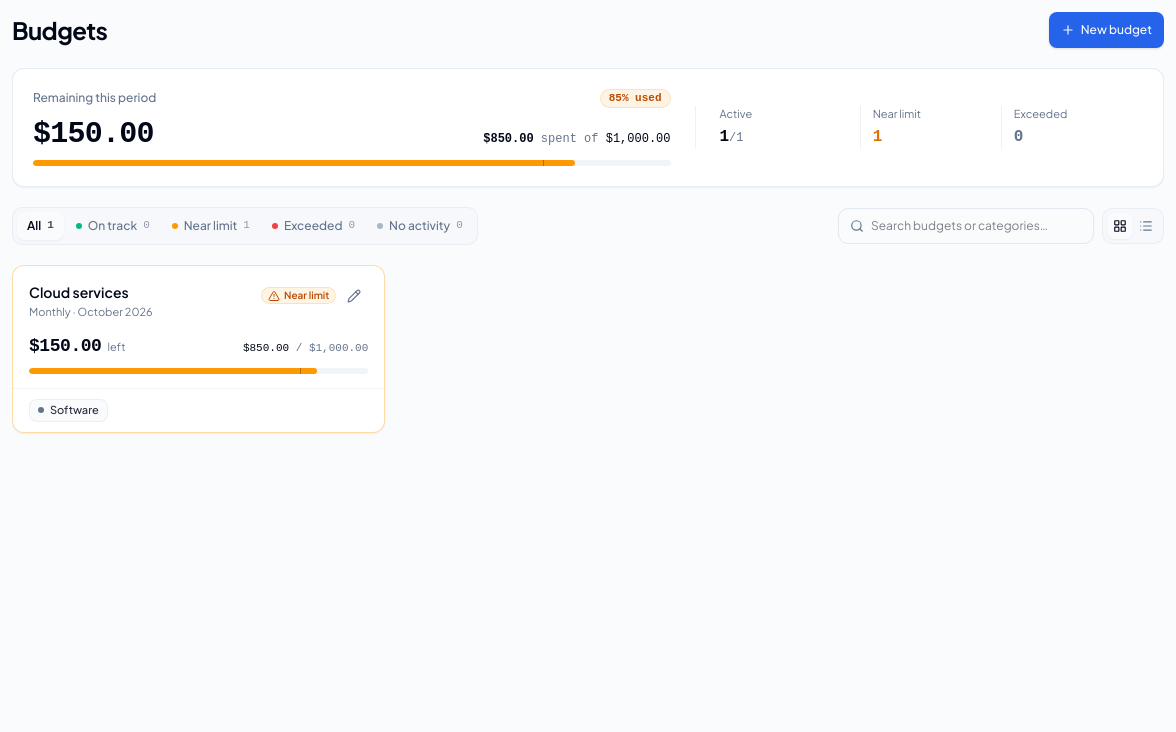
Test case: budget pages › switches views, filters budgets and navigates to details and history
Expected: the element with test id "budget-card-1" shows "$150.00", x1=29 y1=336 x2=102 y2=356
Click the button named "Table view": (1146, 226) x1=1133 y1=212 x2=1159 y2=238
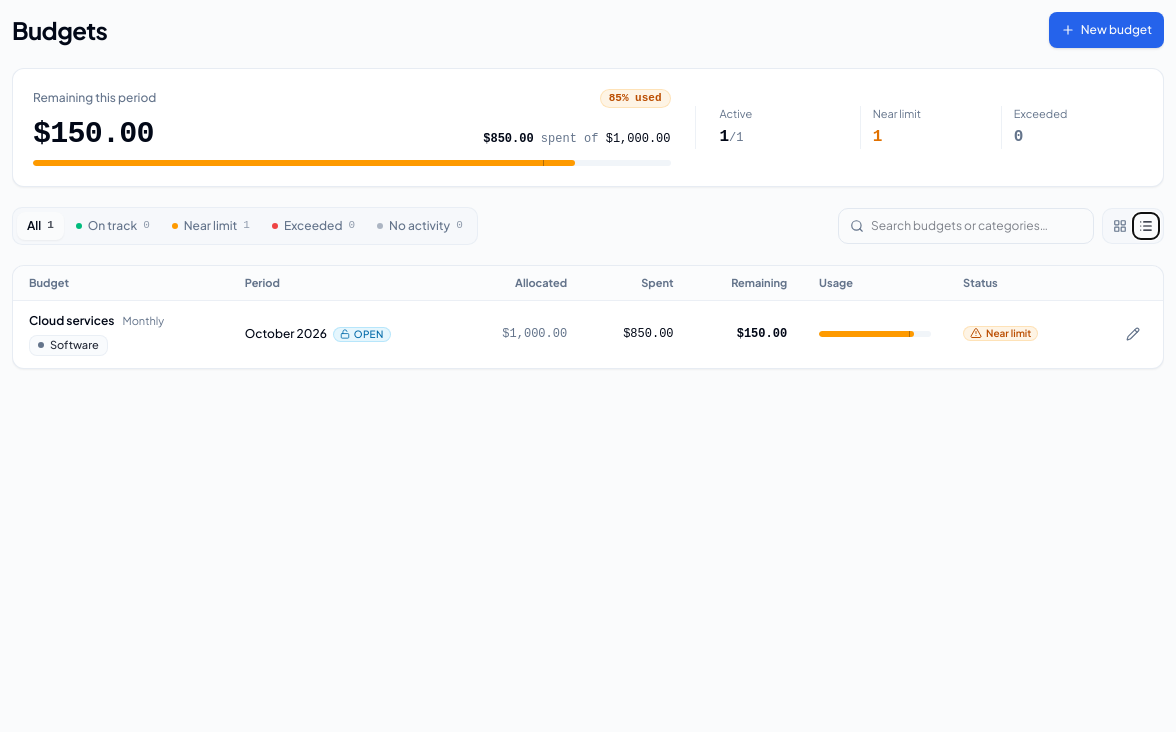
Expected: the table shows "OPEN", x1=354 y1=328 x2=384 y2=340
In the search field labelled "Search budgets": (966, 226) x1=838 y1=208 x2=1094 y2=244, type "missing"
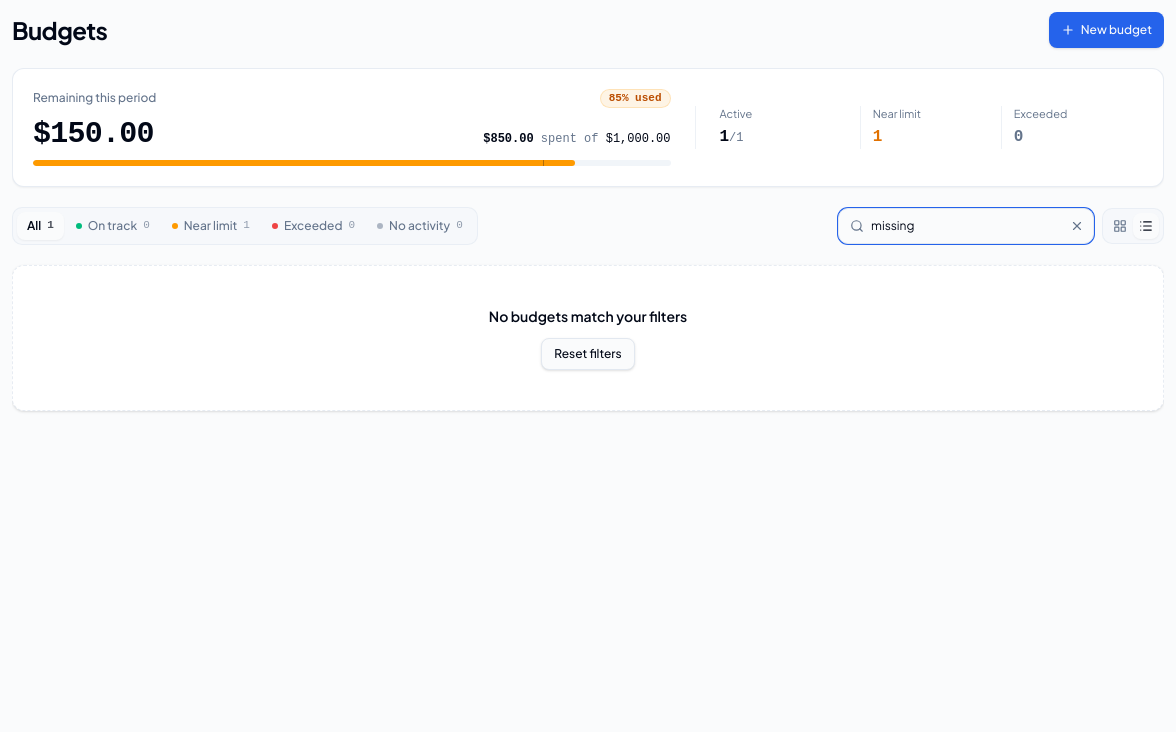
Expected: the heading "No budgets match your filters" is shown, x1=489 y1=306 x2=687 y2=324
Click the button "Reset filters": (588, 354) x1=541 y1=338 x2=635 y2=370
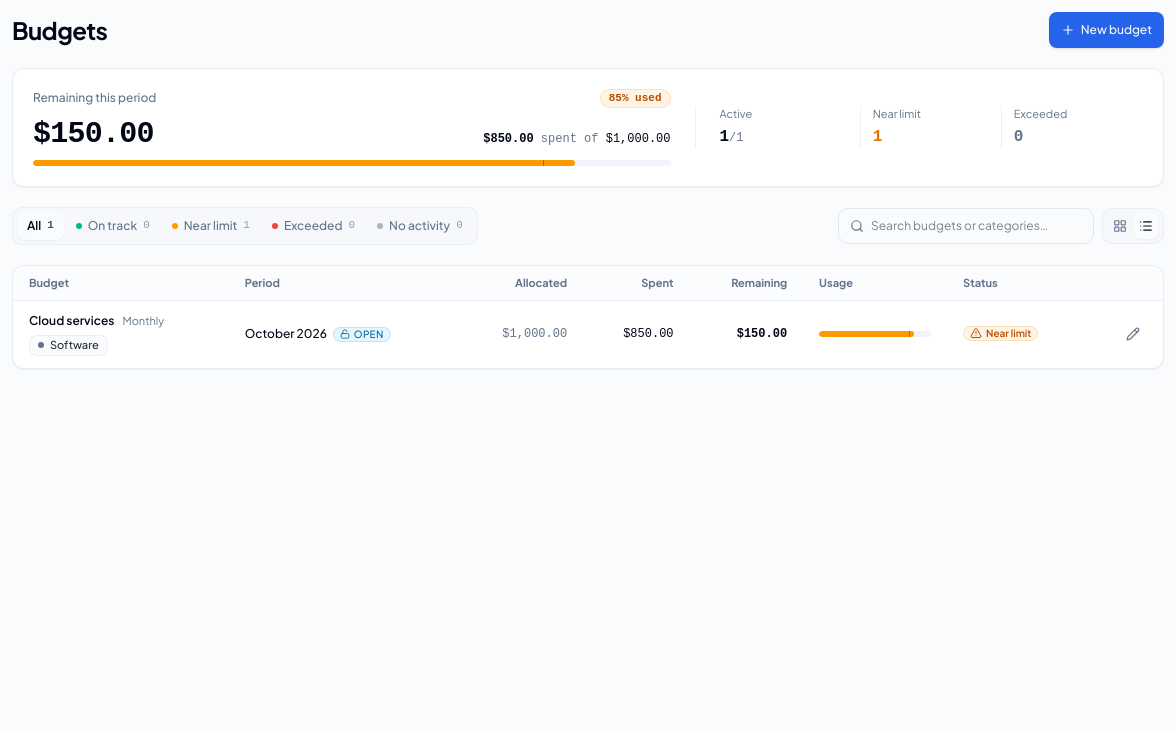
Click the link "Cloud services": (72, 321) x1=29 y1=313 x2=114 y2=329
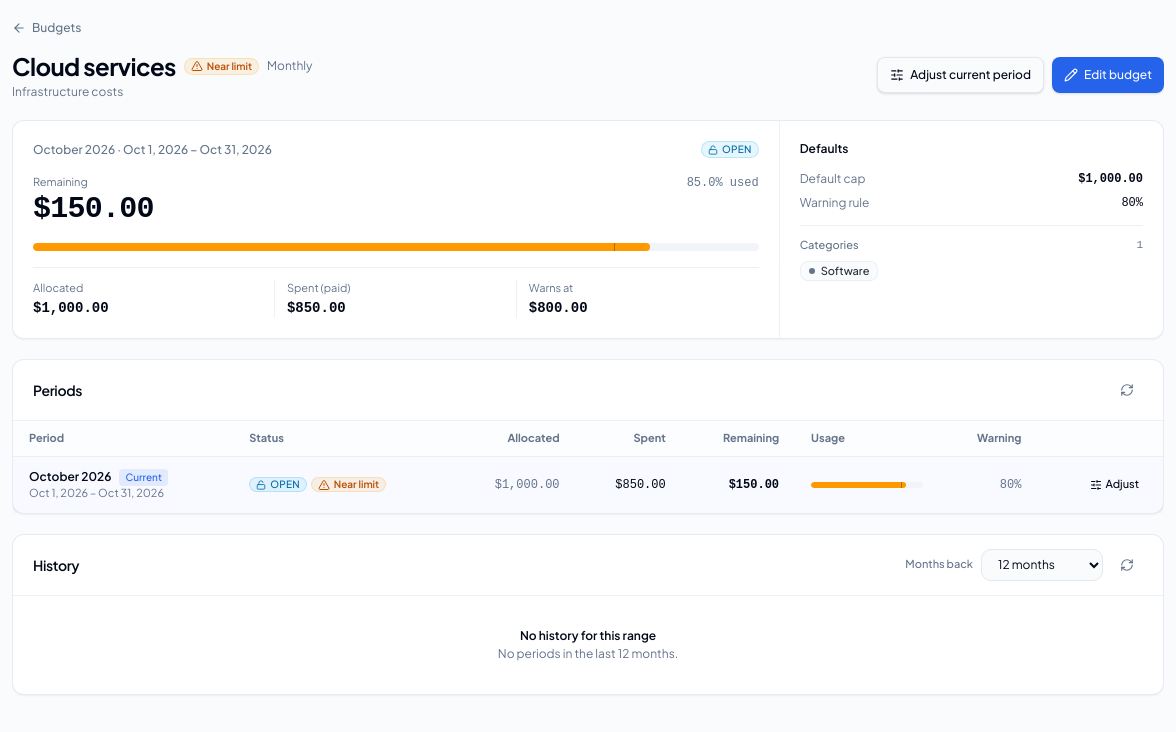
Expected: the heading "Cloud services" is shown, x1=12 y1=50 x2=176 y2=82
Expected: the button with aria-label "Adjust period October 2026" is shown, x1=1082 y1=471 x2=1147 y2=499
